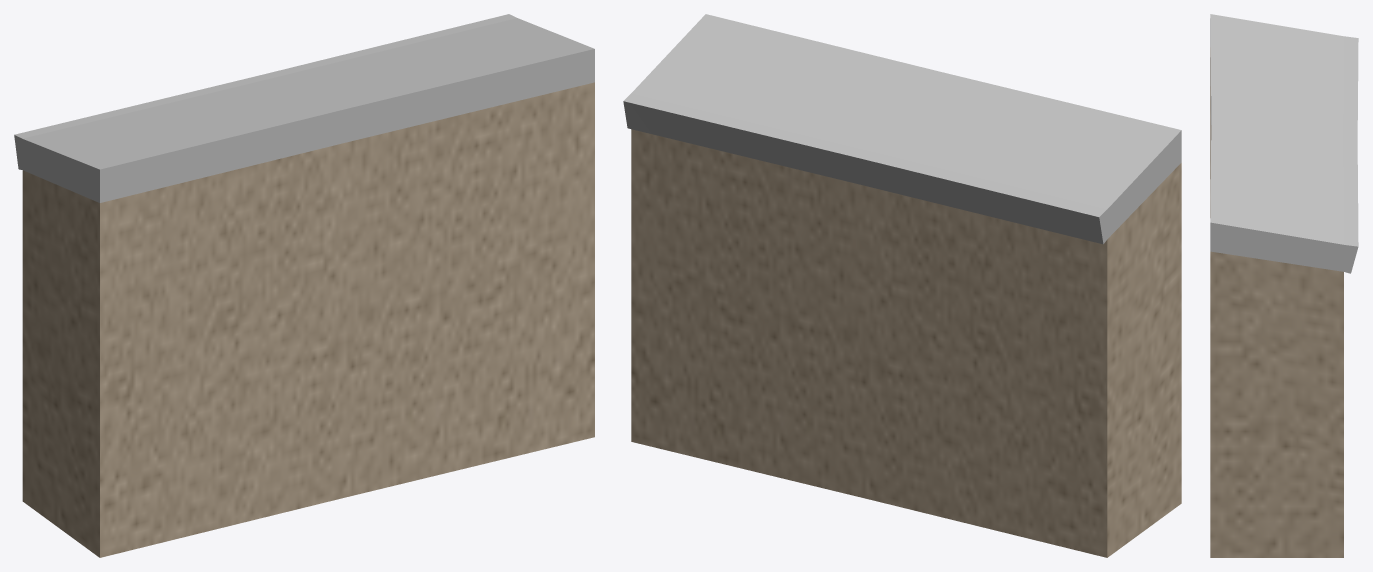
File: PlasterWall_Panel_Half_Model.fbx
The picture shows the model from 3 angles, left to right: view 1: azimuth 30°, elevation 25°; view 2: azimuth 150°, elevation 25°; view 3: azimuth 270°, elevation 25°; orthographic projection. The views are drawn at different scales.
Visible parts, largest first — view 1: Body; view 2: Body; view 3: Body.
Part boxes in pixels (x1=…): Body: x1=14, y1=14, x2=594, y2=557; Body: x1=623, y1=14, x2=1181, y2=557; Body: x1=1210, y1=14, x2=1358, y2=557.
Size of the model in its own units: 100 by 74.98 by 30.
